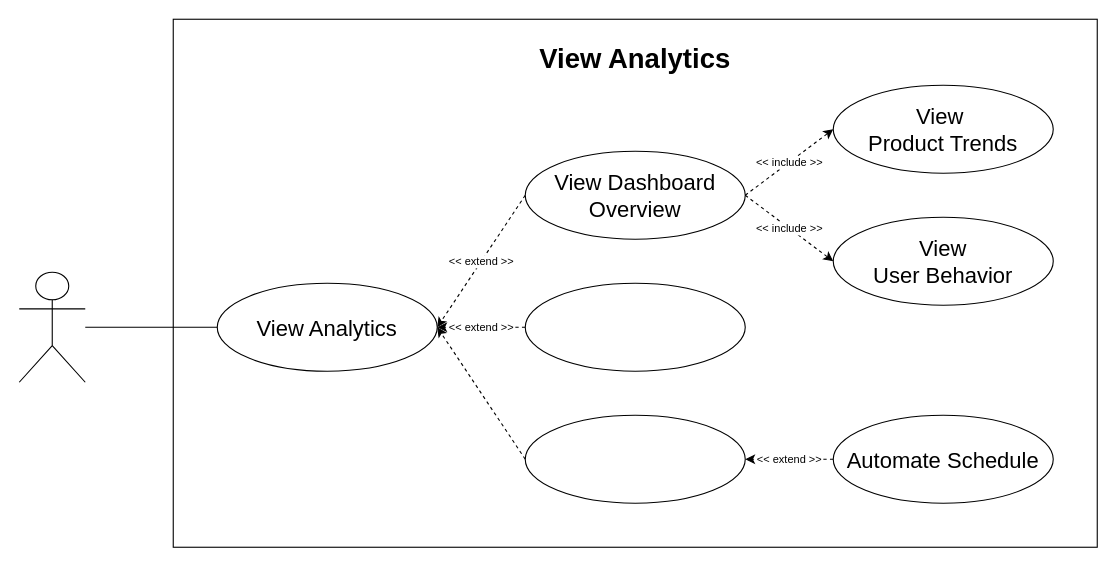
Image size: 1117x567. Some labels were removed from this diagram. The centre of each missing label's shape, as x and y in pixels:
Admin: pixel 51 326
View Event Performance: pixel 634 326
View Finance Report: pixel 634 458
